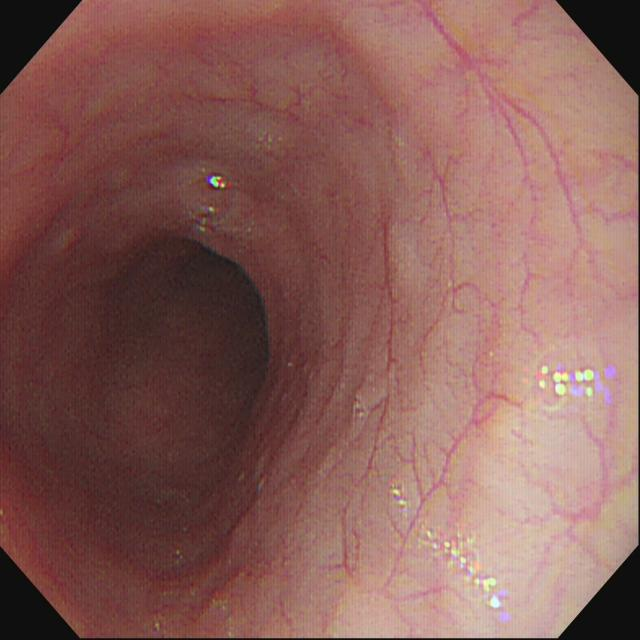U: (426, 529, 506, 611), (539, 367, 620, 407), (208, 176, 230, 192)
